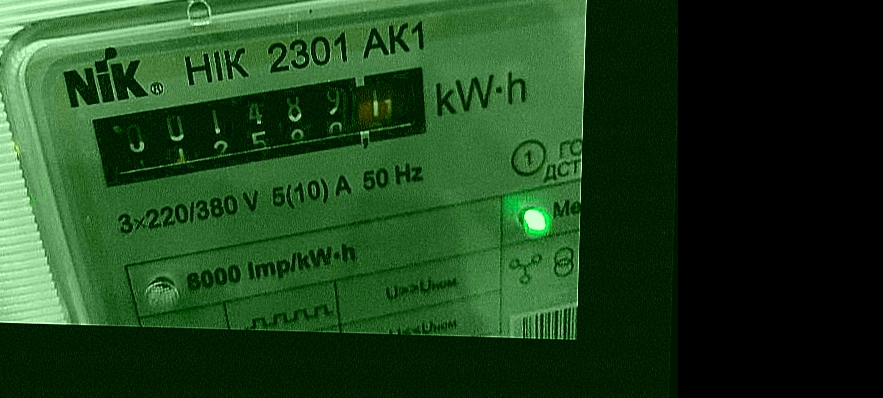0: (158, 108, 185, 144), (120, 120, 145, 156)
1: (362, 82, 382, 120), (203, 105, 223, 136)
4: (241, 96, 264, 128)
8: (281, 89, 303, 126)
9: (320, 84, 341, 117)
screen: (76, 47, 455, 209)
